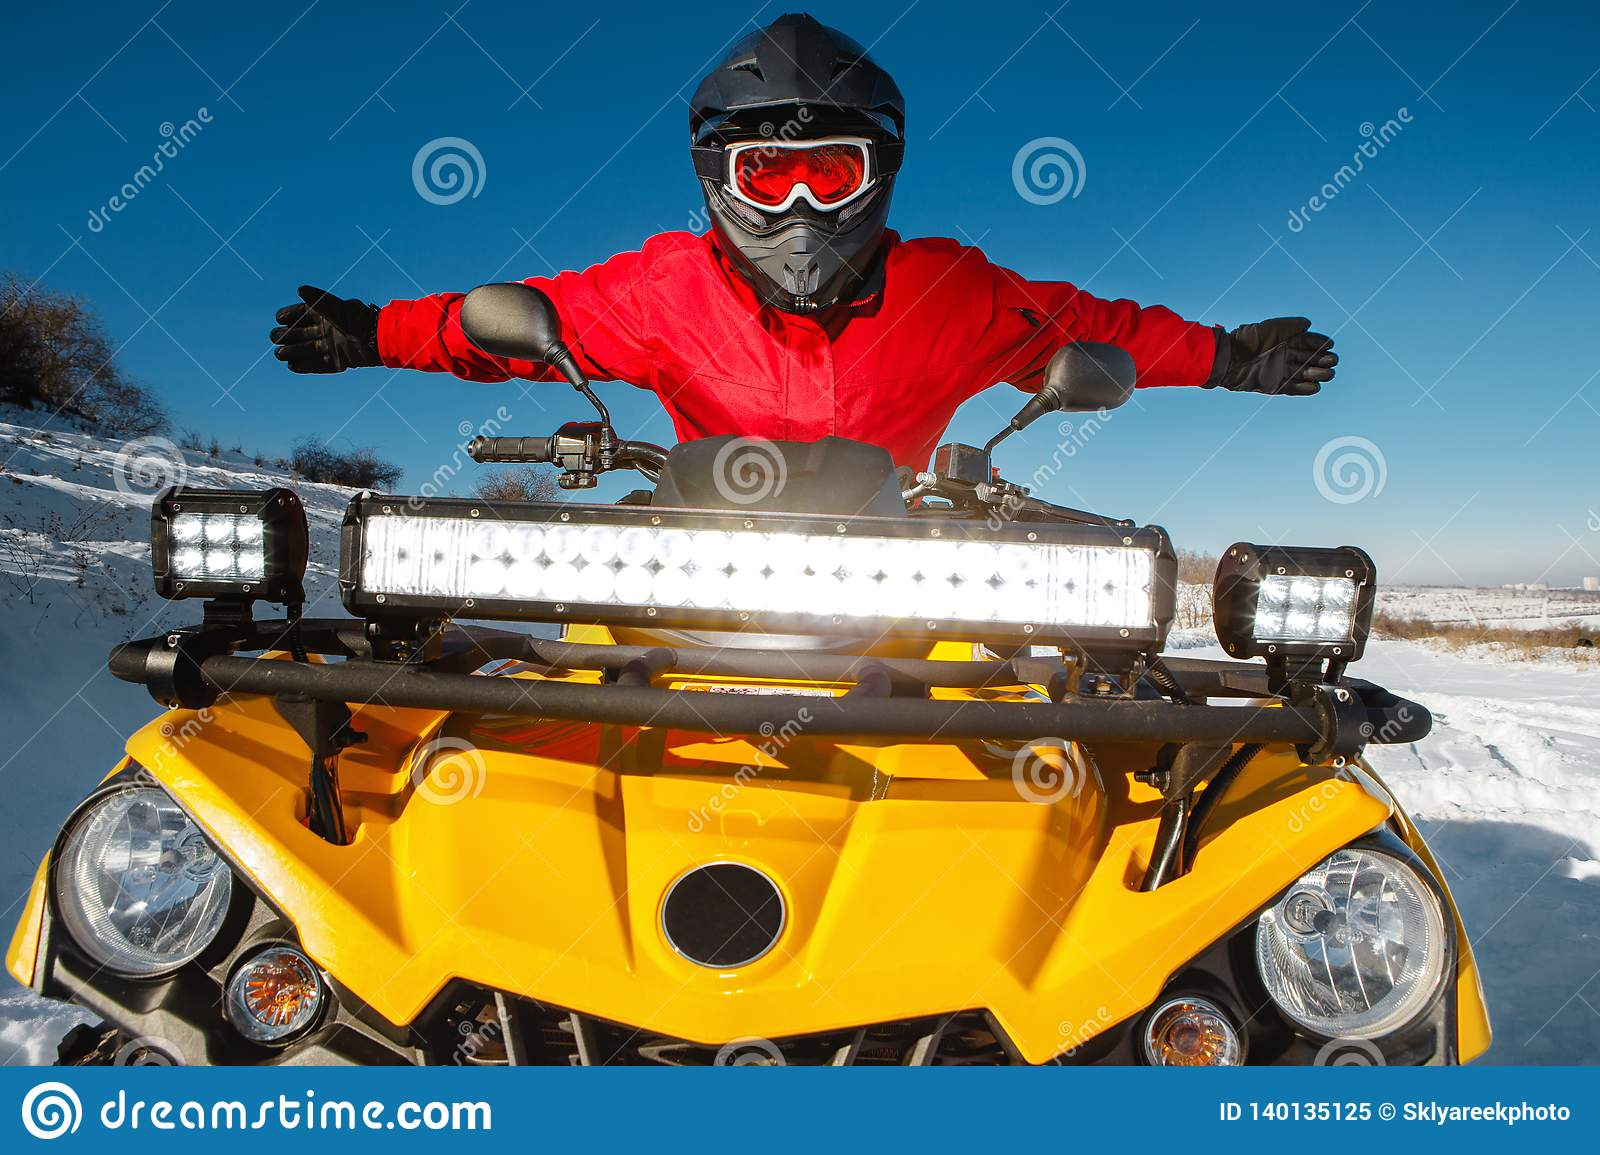helmet: (684, 31, 920, 302)
